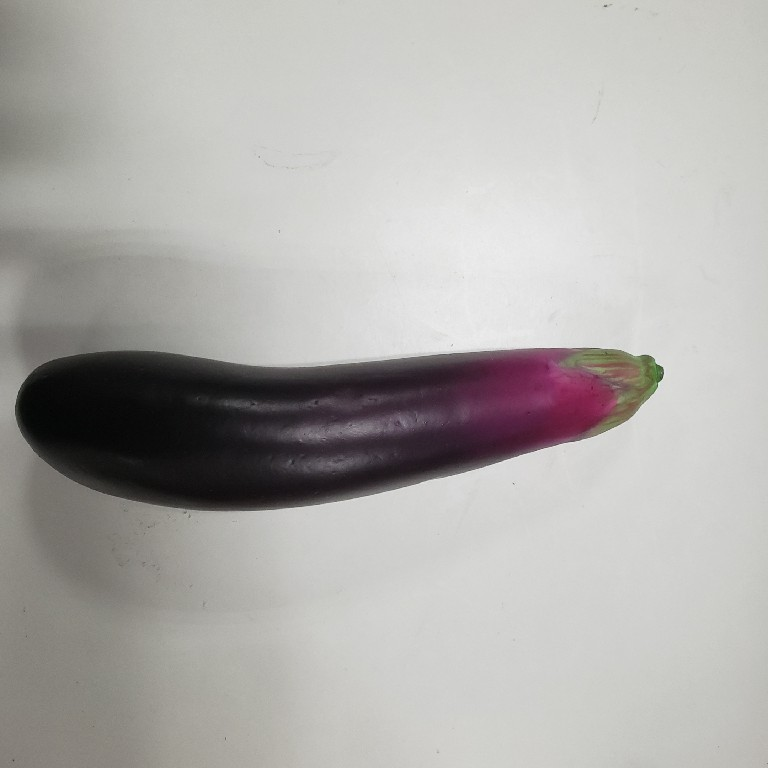fruit_eggplant: (1, 342, 668, 518)
